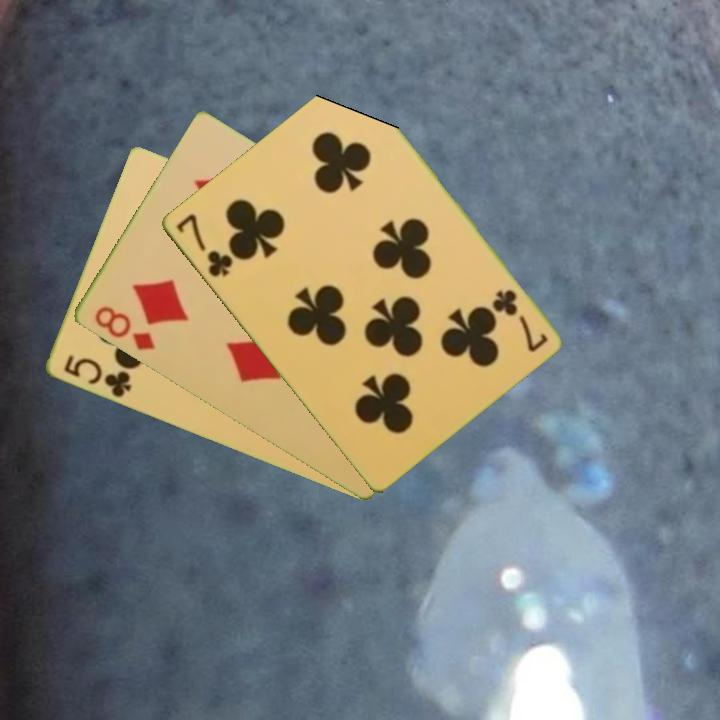5c: (60, 351, 134, 401)
7c: (172, 210, 235, 280), (489, 286, 550, 355)
8d: (90, 302, 158, 354)
